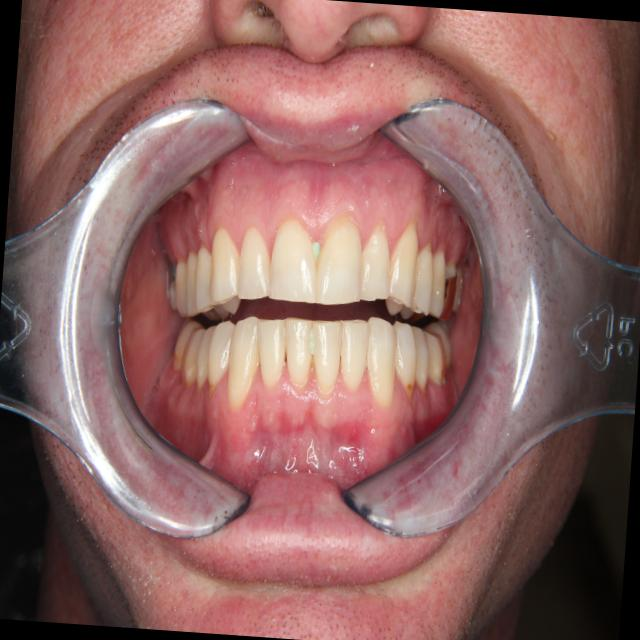tooth: (310, 208, 369, 312), (263, 210, 324, 308), (223, 308, 267, 417), (228, 218, 281, 307), (360, 309, 402, 411), (382, 211, 423, 314), (353, 214, 397, 309), (202, 223, 247, 310), (383, 315, 423, 408), (305, 312, 346, 399), (333, 312, 374, 398), (250, 311, 292, 393), (278, 309, 319, 392), (409, 225, 440, 328), (188, 238, 226, 318), (419, 233, 451, 327), (203, 317, 237, 400), (402, 319, 435, 397), (178, 241, 209, 324), (169, 312, 207, 377), (416, 326, 451, 390), (435, 246, 462, 327), (192, 321, 220, 395), (177, 321, 207, 390), (423, 316, 458, 373), (169, 253, 197, 322), (161, 258, 185, 320), (447, 259, 466, 318)
